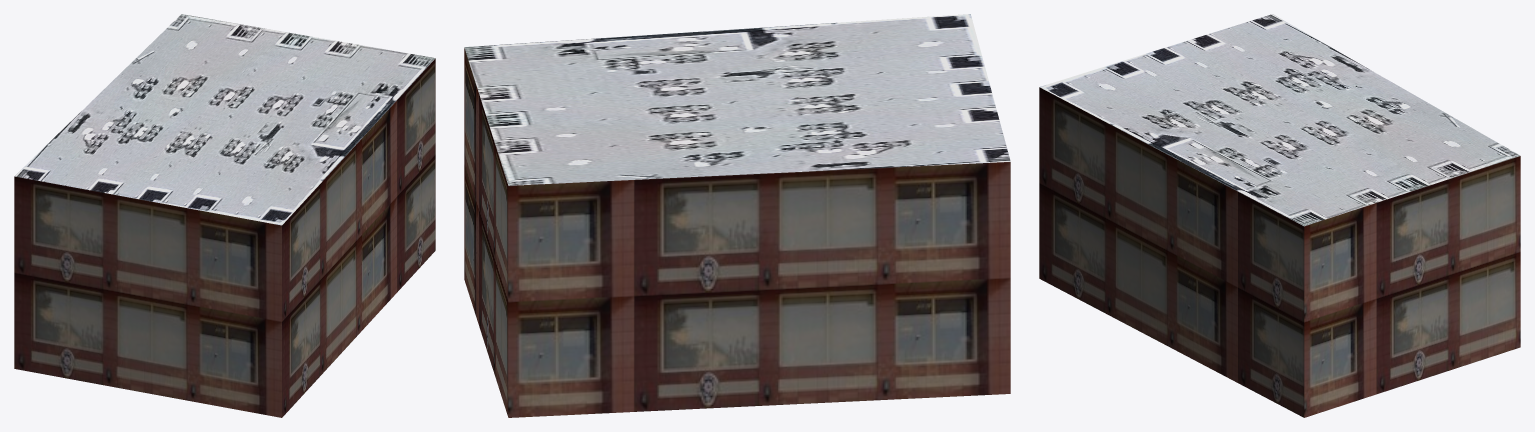
The model's file is ResTex__1503.fbx.
3 views of the same model, side by side, from view 1: azimuth 30°, elevation 25°; view 2: azimuth 150°, elevation 25°; view 3: azimuth 270°, elevation 25° (orthographic). The views are drawn at different scales.
Parts seen in each view (by area): view 1: CityEngineMaterial_13_m, CityEngineMaterial_m; view 2: CityEngineMaterial_13_m, CityEngineMaterial_m; view 3: CityEngineMaterial_13_m, CityEngineMaterial_m.
Boxes of the visible parts, x1,y1,x2,y2 form: CityEngineMaterial_13_m: [14, 58, 435, 417]; CityEngineMaterial_m: [14, 14, 435, 225]; CityEngineMaterial_13_m: [464, 48, 1010, 417]; CityEngineMaterial_m: [464, 14, 1010, 185]; CityEngineMaterial_13_m: [1039, 87, 1520, 417]; CityEngineMaterial_m: [1039, 14, 1520, 226].
Bounding box in the file's own units: 14.27 × 6 × 13.67.
2 materials, 2 textured.
